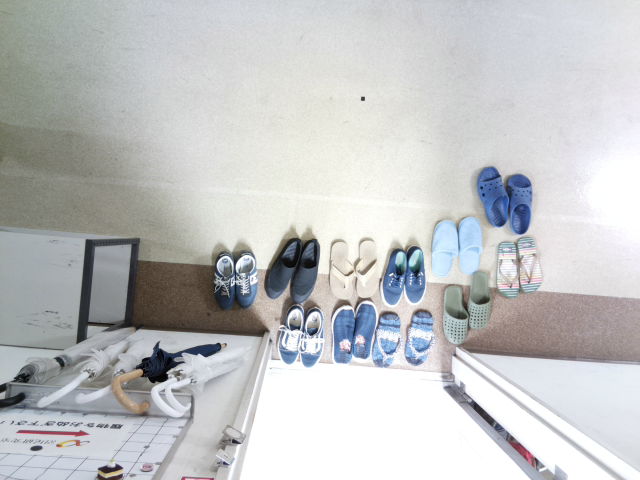Copy of Copy of Copy of Copy of Copy of Copy of Copy of Copy of Copy of Copy of: (472, 163, 512, 231), (499, 169, 539, 237), (487, 235, 527, 303), (512, 230, 550, 300), (272, 302, 308, 369), (296, 306, 332, 373), (369, 309, 405, 376), (403, 305, 439, 372), (322, 302, 357, 369), (349, 299, 384, 366), (401, 239, 433, 308), (379, 239, 410, 308)
Copy of Copy of Copy of Copy of Copy of Copy of Copy of Copy of Copy of shoe: (457, 267, 497, 335)
Copy of Copy of Copy of Copy of Copy of Copy of Copy of Copy of shoe: (439, 280, 471, 346)
Copy of Copy of Copy of Copy of Copy of Copy of Copy of shoe: (450, 211, 490, 279)
Copy of Copy of Copy of Copy of Copy of Copy of shoe: (424, 213, 464, 281)
Copy of Copy of Copy of Copy of Copy of shoe: (346, 232, 386, 301)
Copy of Copy of Copy of Copy of Copy of umbrella: (1, 320, 140, 408)
Copy of Copy of Copy of Copy of shoe: (319, 233, 359, 301)
Copy of Copy of Copy of Copy of umbrella: (33, 324, 143, 411)
Copy of Copy of Copy of shoe: (284, 234, 324, 303)
Copy of Copy of Copy of umbrella: (70, 324, 172, 411)
Copy of Copy of shoe: (260, 230, 307, 301)
Copy of Copy of umbrella: (105, 336, 231, 422)
Copy of shoe: (208, 243, 237, 314)
Copy of umbrella: (163, 347, 255, 426)
shoe: (231, 242, 261, 312)
umbrella: (148, 334, 256, 424)
